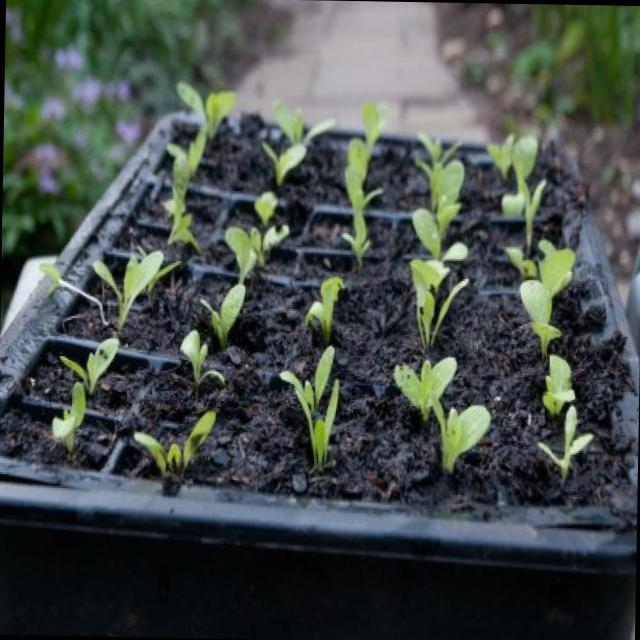Lettuce-Not-Ready-to-Harvest: (93, 251, 178, 331), (133, 411, 216, 491), (410, 259, 468, 349), (537, 404, 593, 481), (432, 400, 490, 472), (279, 345, 334, 418), (41, 264, 106, 324), (393, 357, 455, 419), (176, 81, 235, 137), (59, 338, 117, 394), (519, 280, 561, 356), (412, 202, 466, 260), (301, 379, 337, 464), (200, 284, 246, 349), (249, 192, 289, 266), (501, 135, 537, 217), (345, 138, 381, 216), (179, 329, 224, 390), (305, 276, 343, 343), (275, 102, 335, 144), (52, 381, 86, 455), (415, 160, 464, 211), (539, 239, 575, 296), (542, 354, 575, 415), (167, 127, 206, 176), (262, 143, 305, 186), (224, 226, 256, 283), (341, 207, 370, 269), (165, 151, 190, 214), (525, 179, 546, 252), (418, 133, 461, 165), (361, 101, 387, 149), (487, 133, 514, 179), (168, 213, 200, 251), (506, 247, 537, 278)
